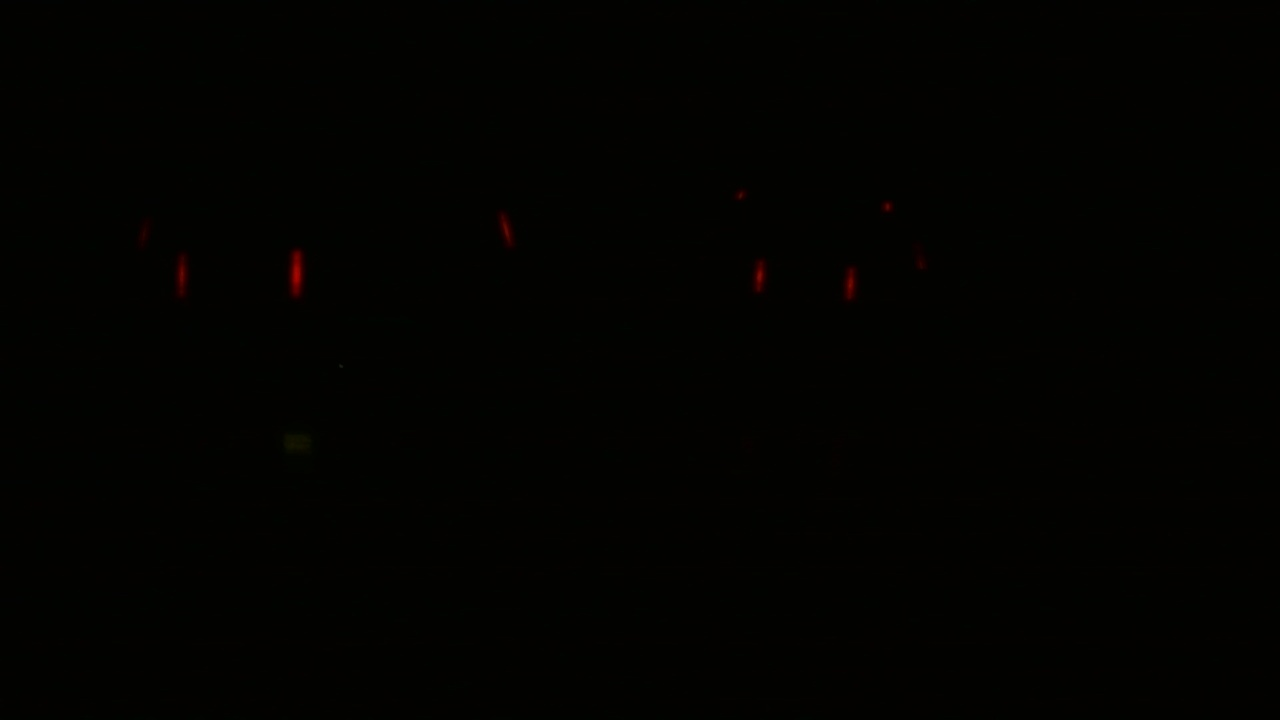pair1: (172, 250, 303, 303), (750, 257, 858, 306)
